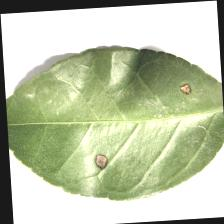canker: (58, 63, 198, 184)
